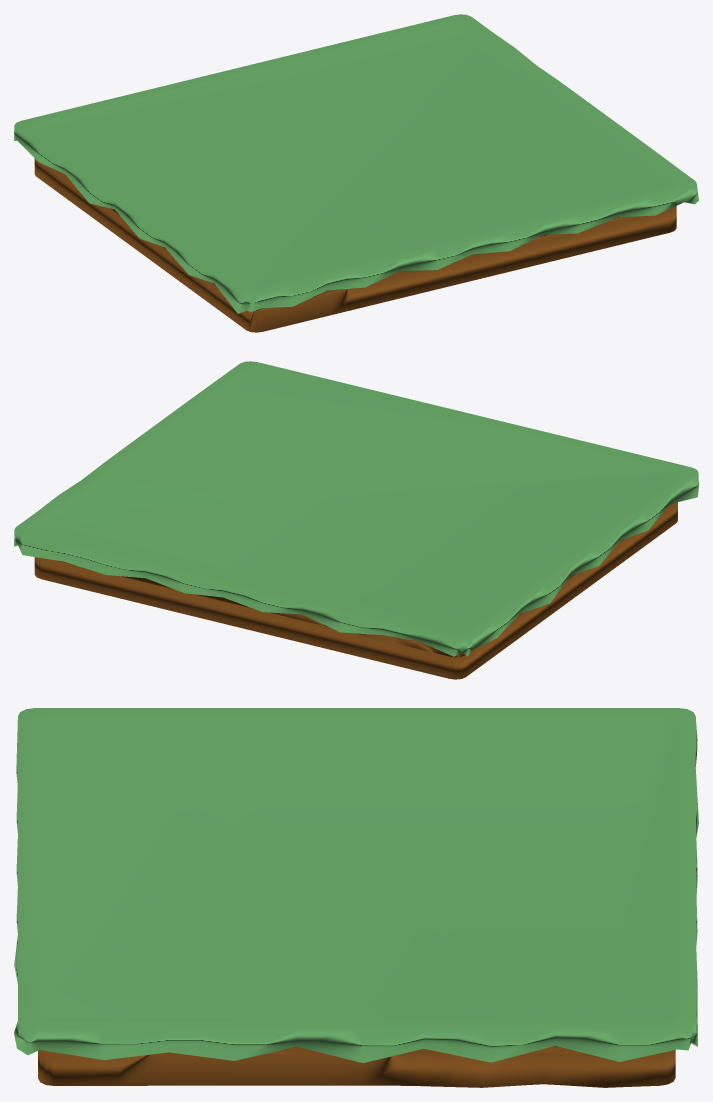
The model's file is Landmap1.fbx.
3 views of the same model, one above another, from view 1: azimuth 30°, elevation 25°; view 2: azimuth 150°, elevation 25°; view 3: azimuth 270°, elevation 25° (orthographic). The views are drawn at different scales.
Parts seen in each view (by area): view 1: Cube; view 2: Cube; view 3: Cube.
Part boxes in pixels (left/top/right/bottom): Cube: left=14, top=14, right=698, bottom=332; Cube: left=14, top=361, right=698, bottom=679; Cube: left=14, top=708, right=698, bottom=1087.
Bounding box in the file's own units: 3728 × 385 × 3338.
